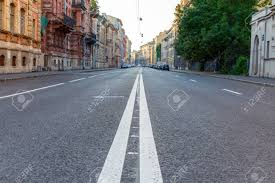strada: (0, 79, 273, 183)
